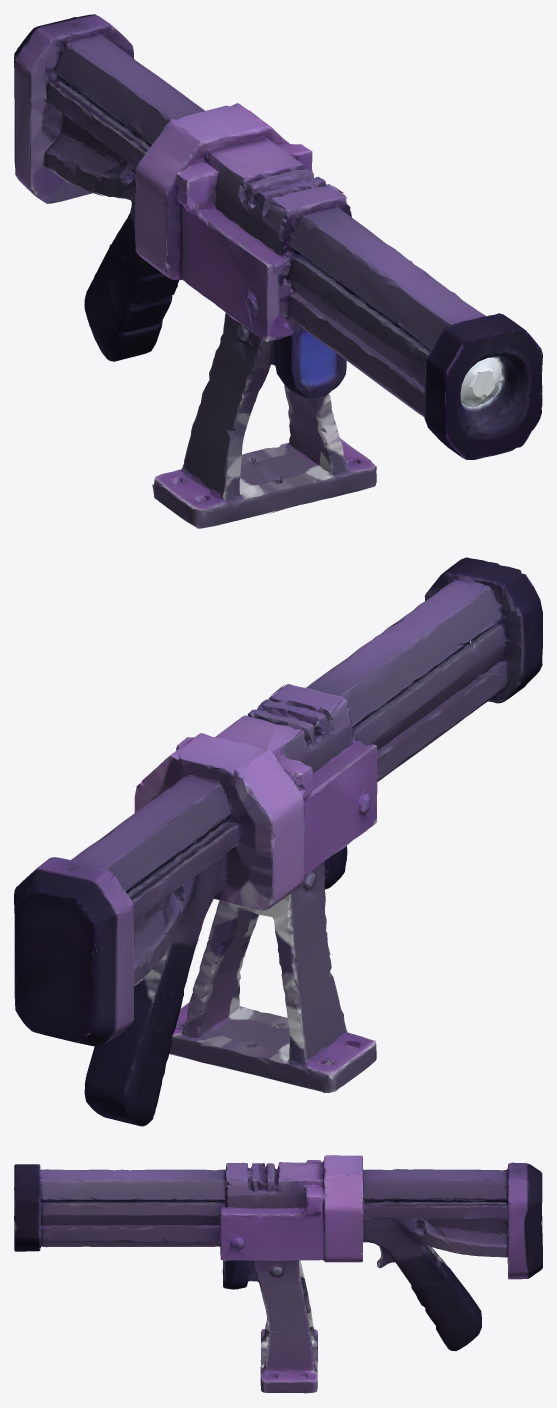
File: v8supercar_gatling.glb
3 renders of one model, top to bottom at view 1: azimuth 30°, elevation 25°; view 2: azimuth 150°, elevation 25°; view 3: azimuth 270°, elevation 25°, orthographic. The views are drawn at different scales.
Parts seen in each view (by area): view 1: Gatling_V8_Supercar_x; view 2: Gatling_V8_Supercar_x; view 3: Gatling_V8_Supercar_x.
Part boxes in pixels (x1,y1,x2,y2): Gatling_V8_Supercar_x: (14, 14, 542, 528); Gatling_V8_Supercar_x: (14, 557, 542, 1126); Gatling_V8_Supercar_x: (14, 1155, 542, 1393).
Bounding box in the file's own units: 0.1919 × 0.3374 × 0.801.
Materials: 1 (1 with a texture image).
